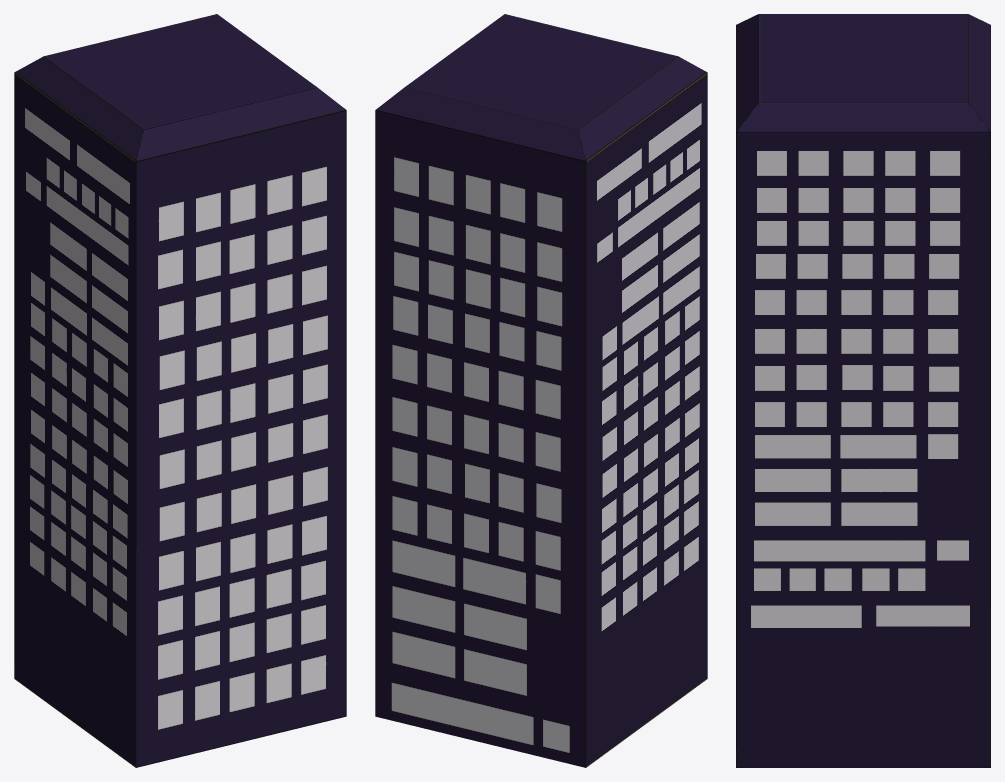
The model's file is skyscraper-3.gltf.
The picture shows the model from 3 angles, left to right: view 1: azimuth 30°, elevation 25°; view 2: azimuth 150°, elevation 25°; view 3: azimuth 270°, elevation 25°; orthographic projection. The views are drawn at different scales.
Visible parts, largest first — view 1: Cube; view 2: Cube; view 3: Cube.
Boxes of the visible parts, box(x1,y1,x2,y2) form: Cube: box(14, 14, 346, 767); Cube: box(375, 14, 707, 767); Cube: box(736, 14, 990, 767).
Bounding box in the file's own units: 4.97 × 14.12 × 4.97.
Materials: 1 (1 with a texture image).
